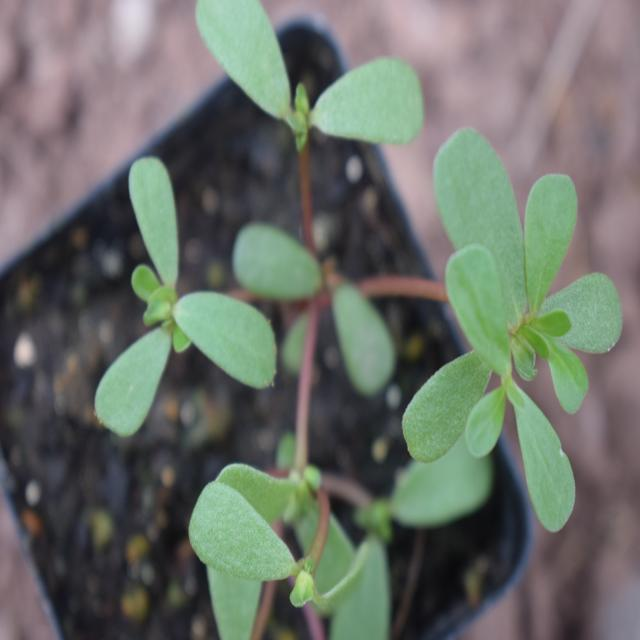purslane: (114, 8, 596, 604)
